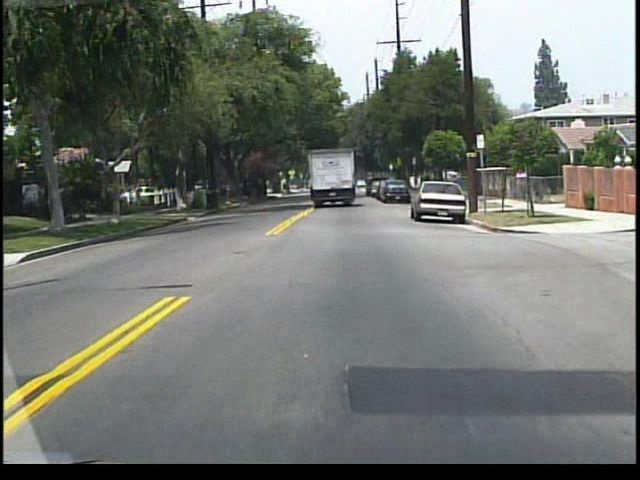person: (512, 164, 527, 201)
